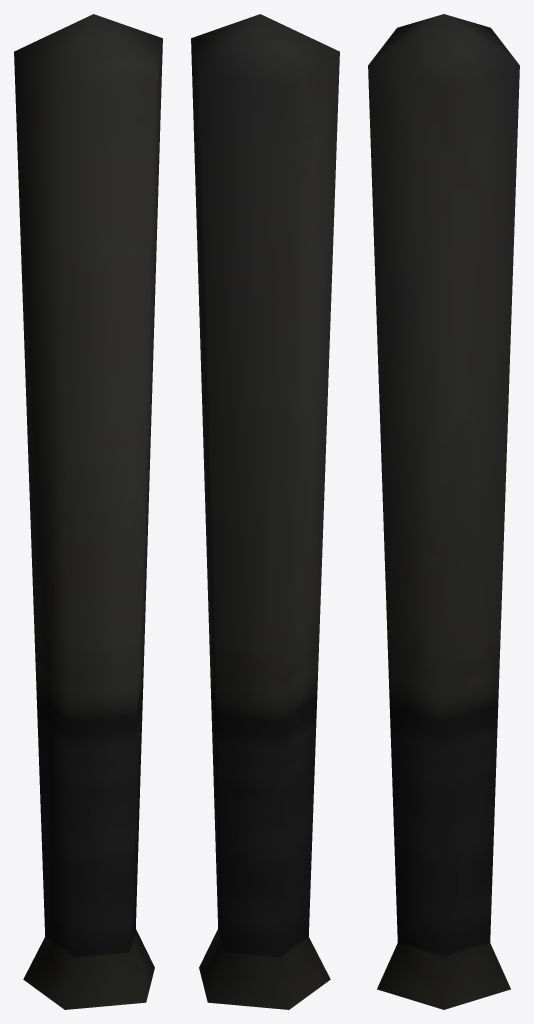
Rendered from w_batton.FBX.
3 renders of one model, left to right at view 1: azimuth 30°, elevation 25°; view 2: azimuth 150°, elevation 25°; view 3: azimuth 270°, elevation 25°, orthographic.
Visible parts, largest first — view 1: w_batton; view 2: w_batton; view 3: w_batton.
Part boxes in pixels (x1,y1,x2,y2): w_batton: [14, 14, 162, 1009]; w_batton: [191, 14, 339, 1009]; w_batton: [368, 14, 519, 1009].
Size of the model in its own units: 5.37 by 39.6 by 5.64.
1 material, 1 textured.
